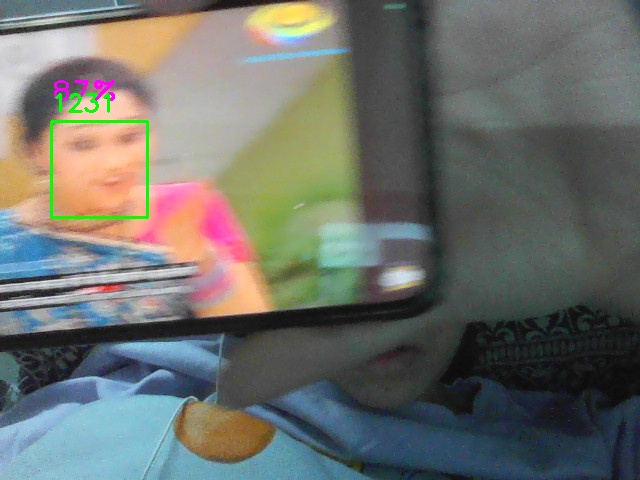fake: (51, 121, 148, 218)
